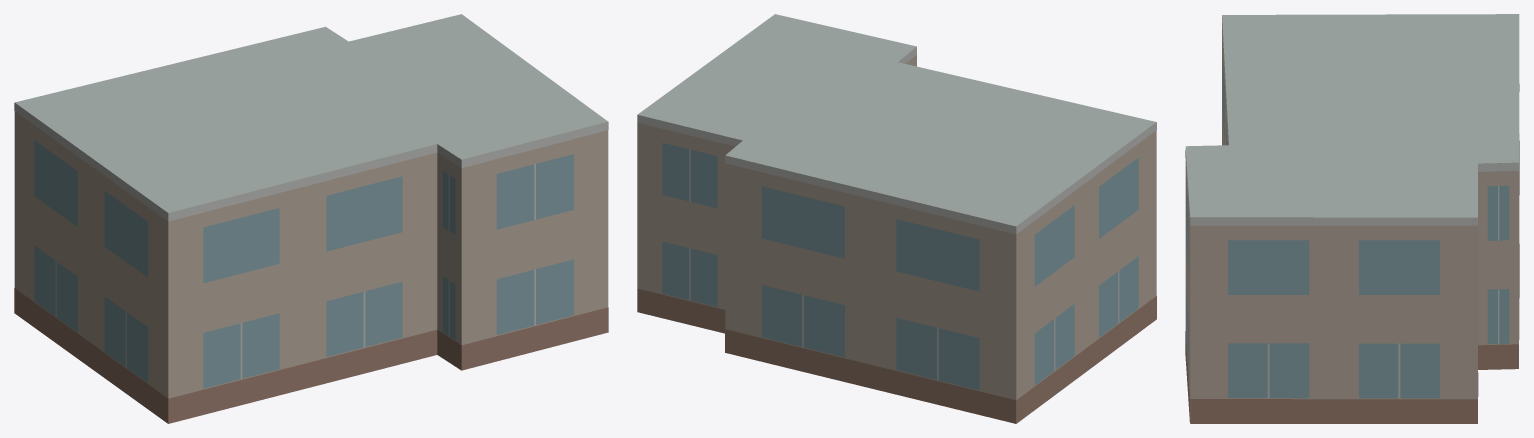
File: survey-upis-32980917.glb
The picture shows the model from 3 angles, left to right: view 1: azimuth 30°, elevation 25°; view 2: azimuth 150°, elevation 25°; view 3: azimuth 270°, elevation 25°; orthographic projection. The views are drawn at different scales.
Visible parts, largest first — view 1: survey-upis-32980917.tmp; view 2: survey-upis-32980917.tmp; view 3: survey-upis-32980917.tmp.
Part boxes in pixels (left/top/right/bottom): survey-upis-32980917.tmp: left=14, top=14, right=608, bottom=423; survey-upis-32980917.tmp: left=637, top=14, right=1156, bottom=423; survey-upis-32980917.tmp: left=1185, top=14, right=1519, bottom=423.
Bounding box in the file's own units: 12.91 × 6.1 × 8.96.
